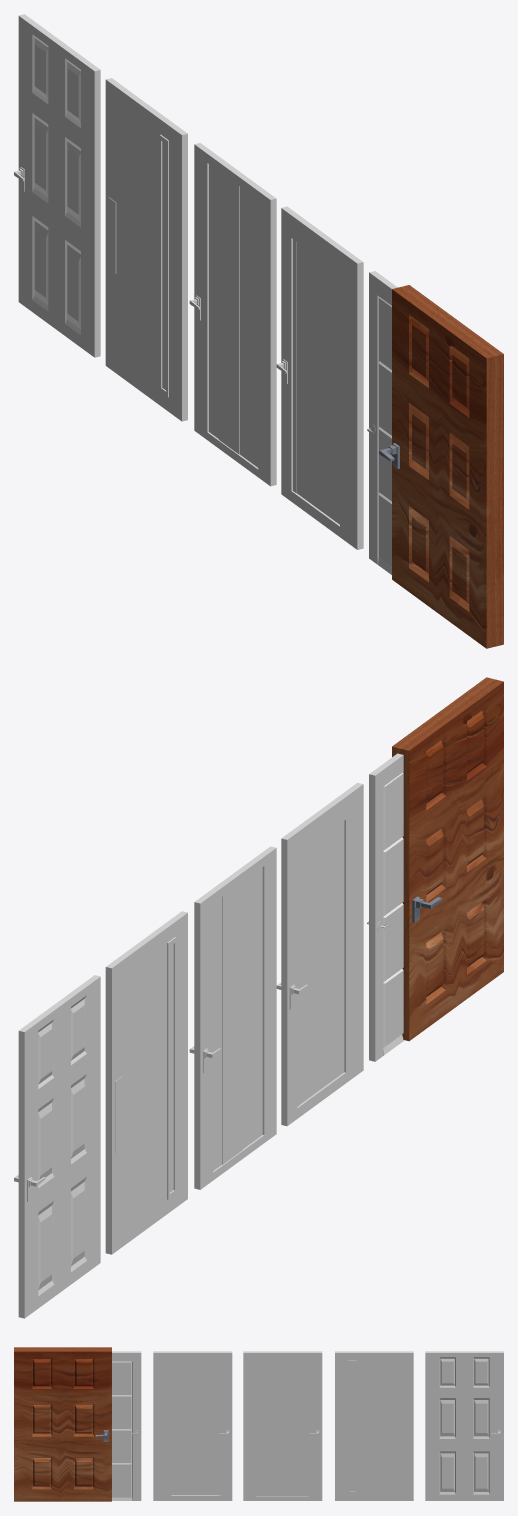
File: Puerta.fbx
3 renders of one model, top to bottom at view 1: azimuth 30°, elevation 25°; view 2: azimuth 150°, elevation 25°; view 3: azimuth 270°, elevation 25°, orthographic. The views are drawn at different scales.
Visible parts, largest first — view 1: D2.003, D2, D2.001, D2.004, D2.002, Cube.001; view 2: D2.003, D2.001, D2, D2.004, D2.002, Cube.001; view 3: D2.003, D2, D2.001, D2.002, D2.004, Cube.001.
Boxes of the visible parts, left/top/right/bottom form: D2.003: left=379, top=285, right=503, bottom=648; D2: left=276, top=206, right=363, bottom=549; D2.001: left=189, top=143, right=276, bottom=486; D2.004: left=14, top=14, right=100, bottom=357; D2.002: left=105, top=78, right=187, bottom=421; Cube.001: left=367, top=271, right=397, bottom=574; D2.003: left=392, top=677, right=503, bottom=1041; D2.001: left=189, top=846, right=276, bottom=1189; D2: left=276, top=782, right=363, bottom=1126; D2.004: left=14, top=975, right=100, bottom=1318; D2.002: left=105, top=911, right=187, bottom=1254; Cube.001: left=367, top=753, right=404, bottom=1061; D2.003: left=14, top=1347, right=111, bottom=1501; D2: left=153, top=1351, right=232, bottom=1500; D2.001: left=243, top=1351, right=322, bottom=1500; D2.002: left=335, top=1351, right=413, bottom=1500; D2.004: left=425, top=1351, right=503, bottom=1500; Cube.001: left=112, top=1351, right=141, bottom=1500.
Size of the model in its own units: 42.1 by 221 by 650.
